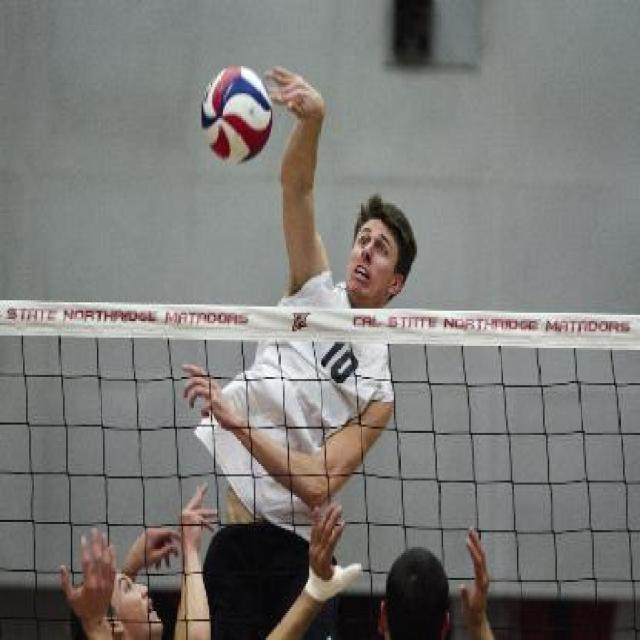volleyball: (201, 65, 273, 165)
